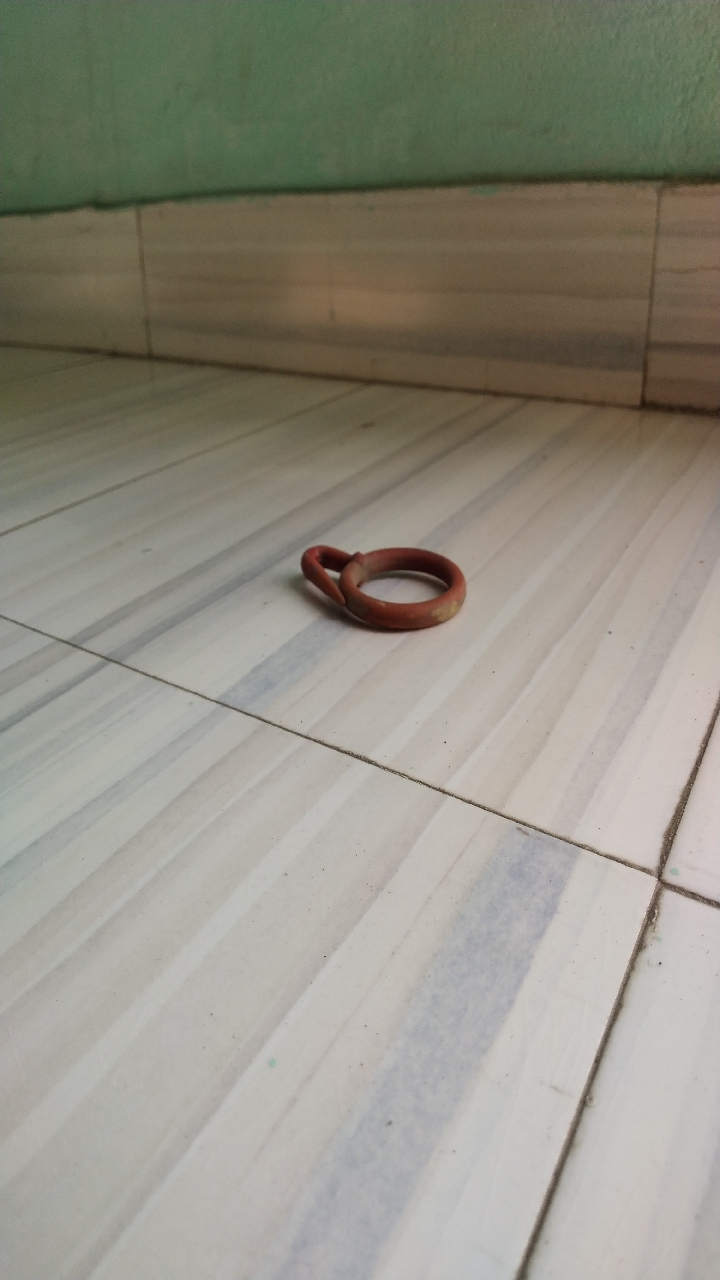garments: (294, 525, 477, 637)
